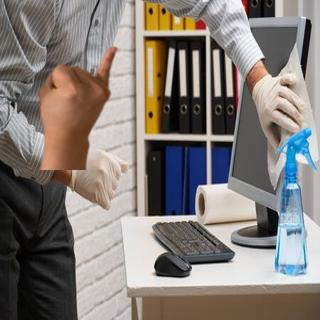FINE: (34, 44, 120, 145)
